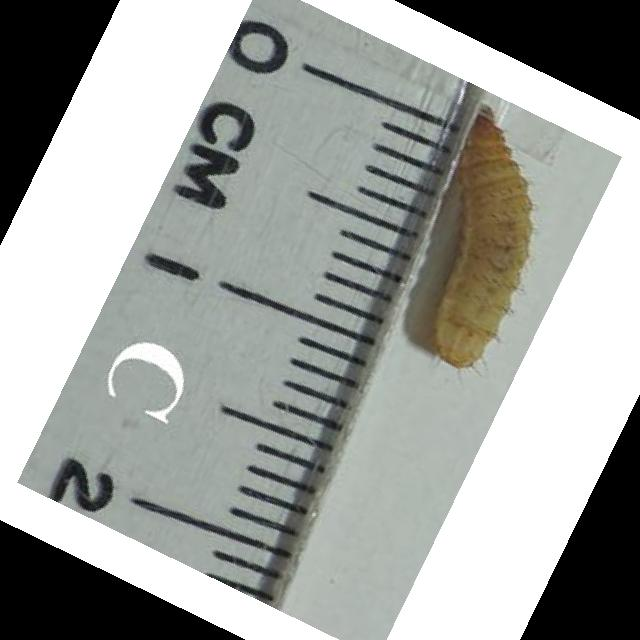Maggot: (428, 105, 541, 374)
